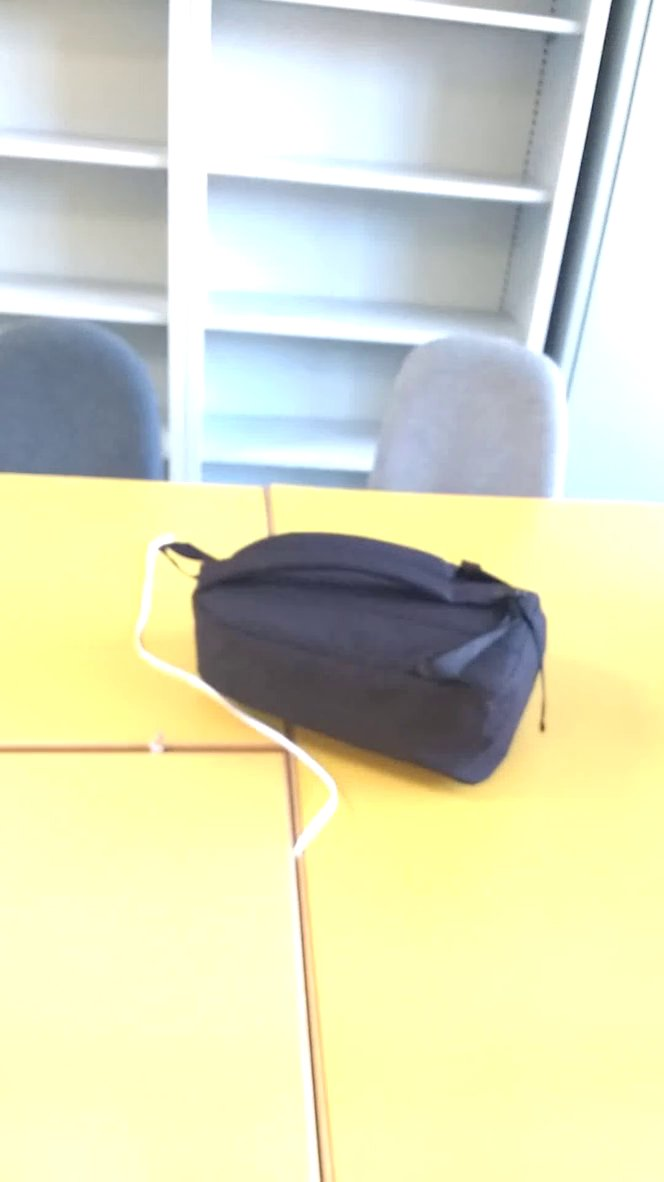bag: (154, 519, 566, 790)
chair: (369, 322, 581, 516), (1, 291, 185, 501)
